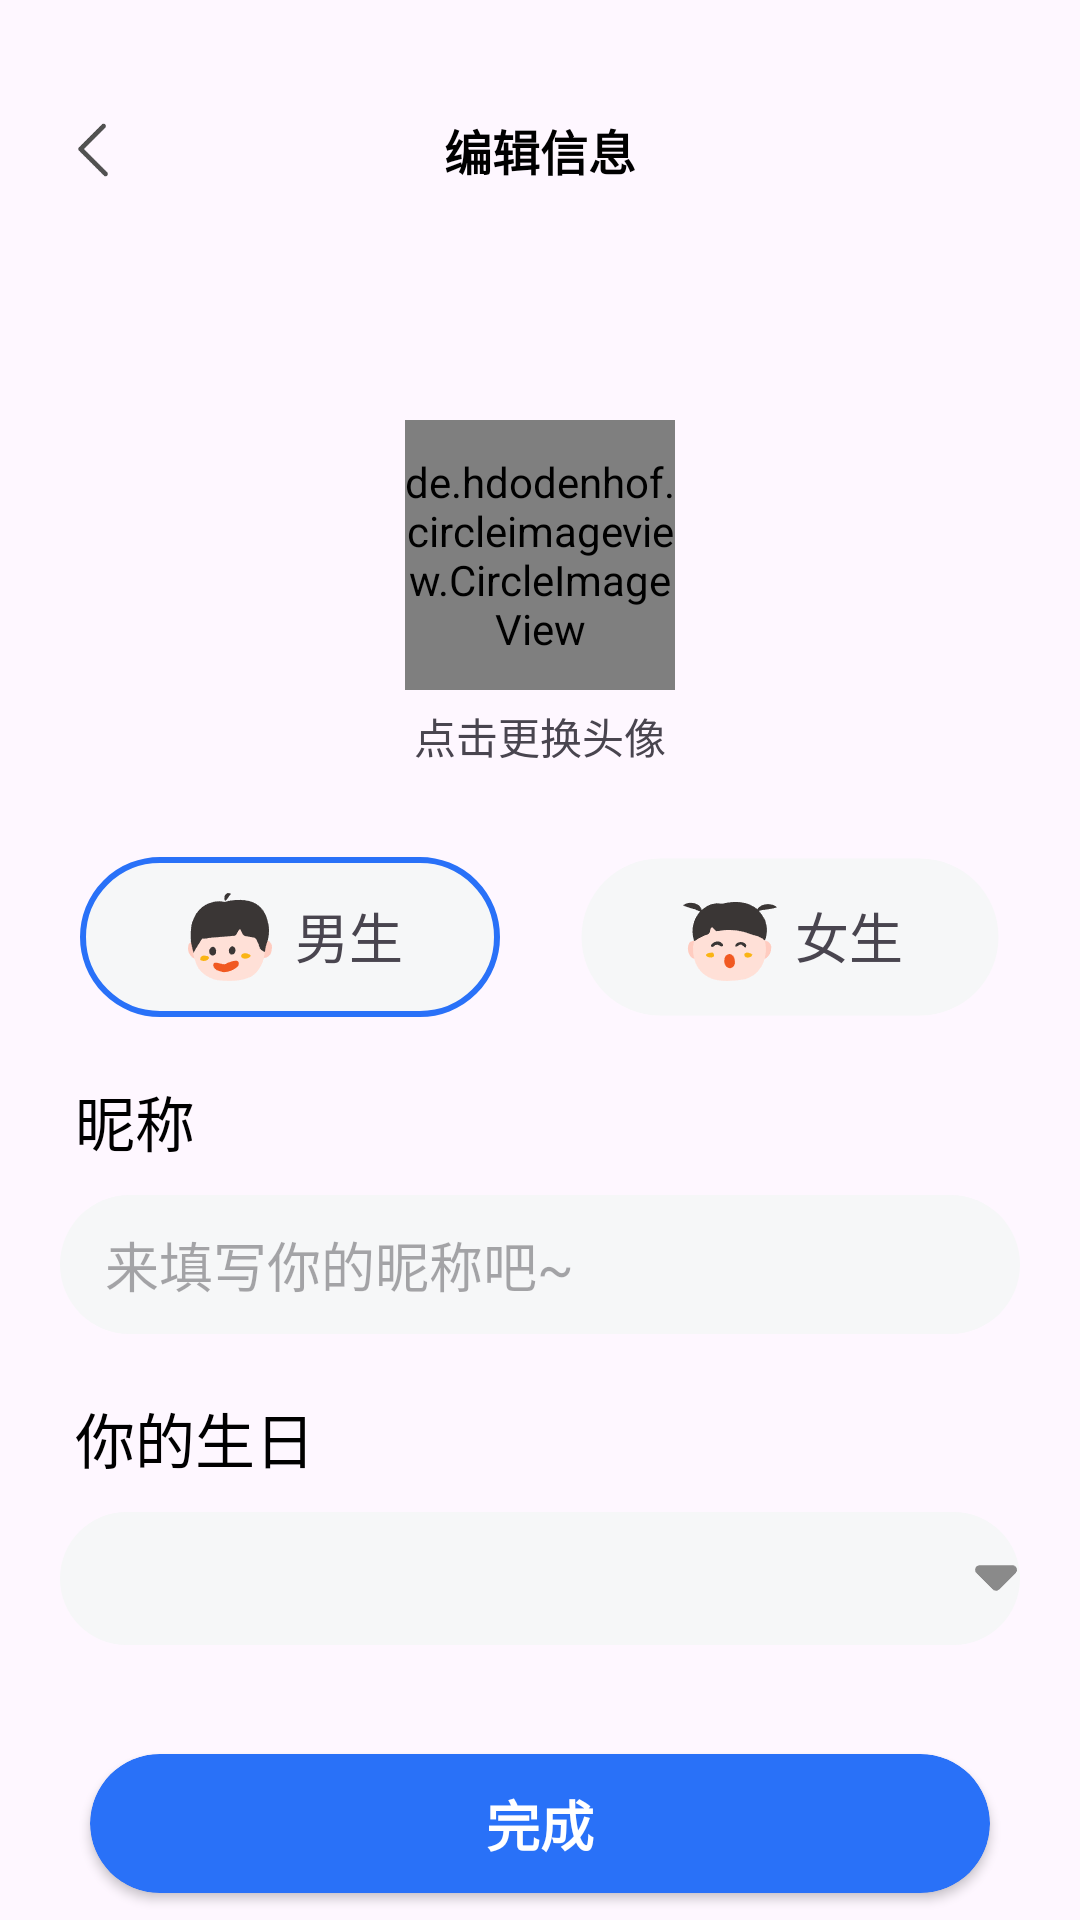

Named icons in this screenshot (1080×1920) and their centers, (x=x, y=y):
back: (x=93, y=150)
